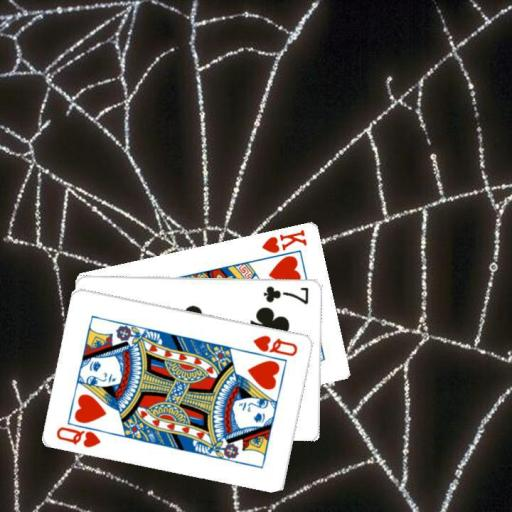7C: (261, 283, 311, 306)
KH: (259, 226, 309, 255)
QH: (53, 418, 111, 449), (251, 331, 300, 358)
